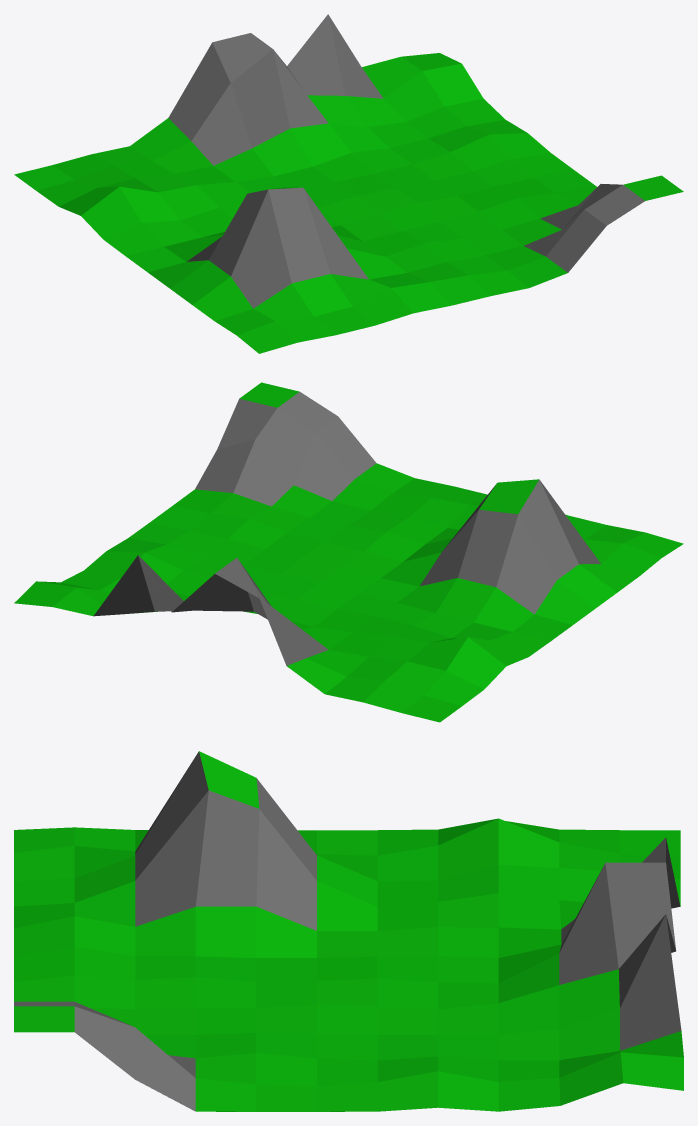
3 views of the same model, one above another, from view 1: azimuth 30°, elevation 25°; view 2: azimuth 150°, elevation 25°; view 3: azimuth 270°, elevation 25° (orthographic). The views are drawn at different scales.
Parts seen in each view (by area): view 1: mesh_3a; view 2: mesh_3a; view 3: mesh_3a.
Part boxes in pixels (x1,y1,x2,y2): mesh_3a: (14, 14, 683, 353); mesh_3a: (14, 382, 683, 722); mesh_3a: (14, 751, 683, 1111).
Bounding box in the file's own units: 10051 × 2158 × 10051.
